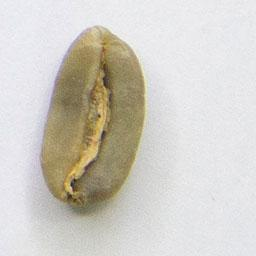longberry: (35, 22, 149, 212)
